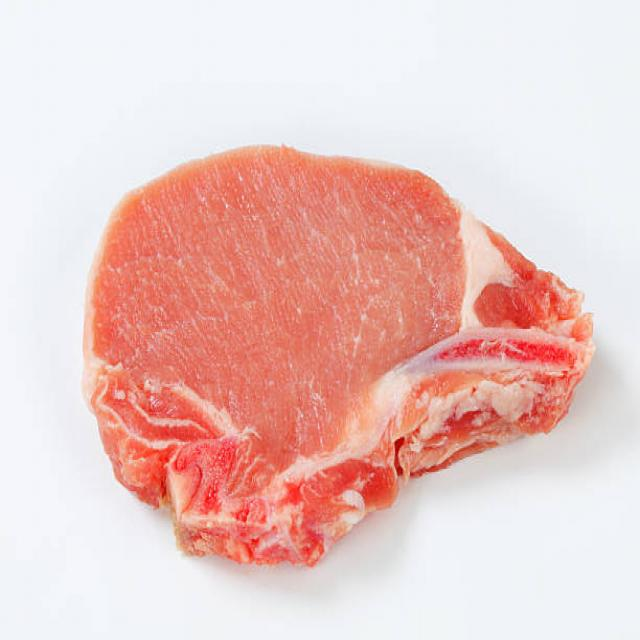pork: (81, 128, 599, 571)
